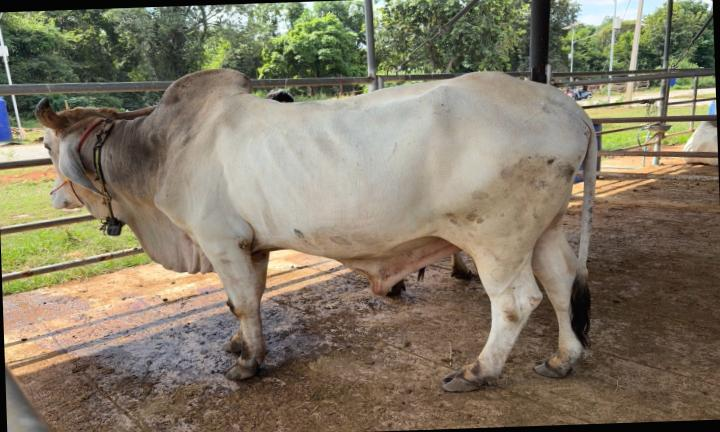Brahman: (36, 69, 596, 391)
